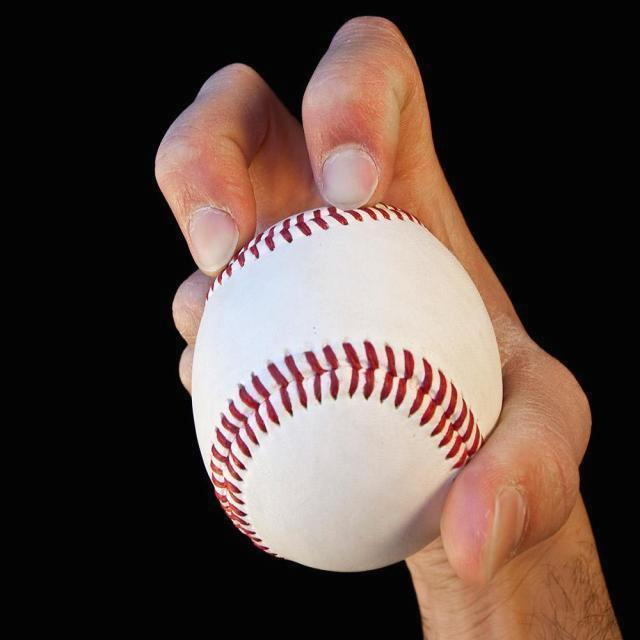ball: (190, 202, 504, 574)
